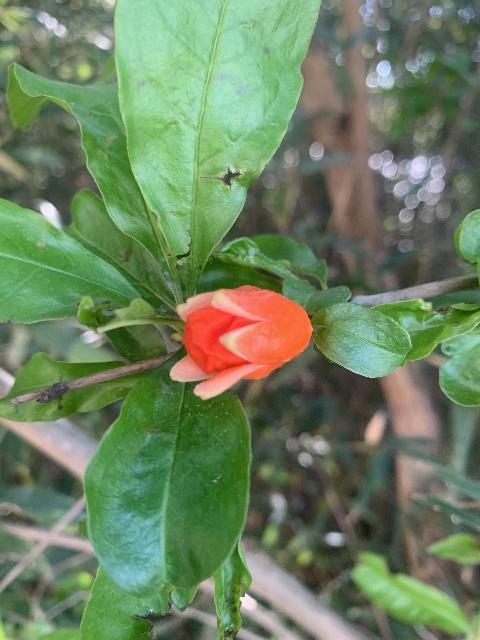flower: (171, 285, 312, 400)
